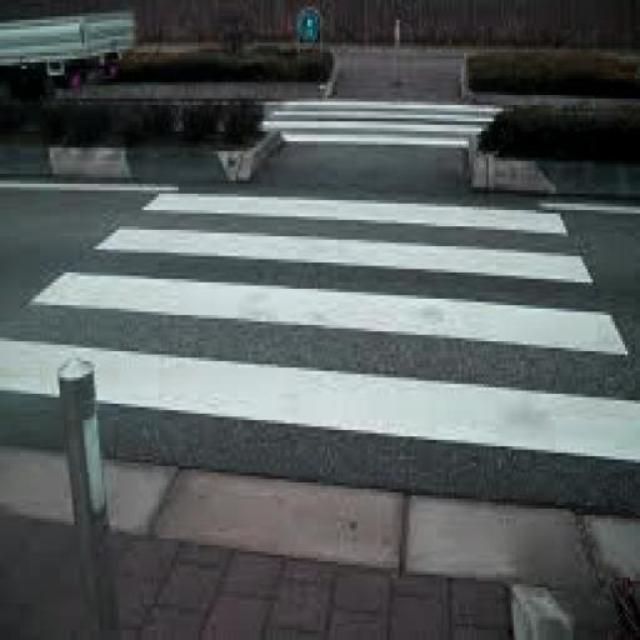sidewalk: (5, 105, 635, 461)
